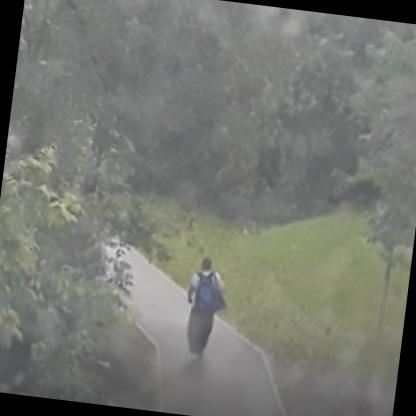Human Body: (170, 248, 235, 366)
